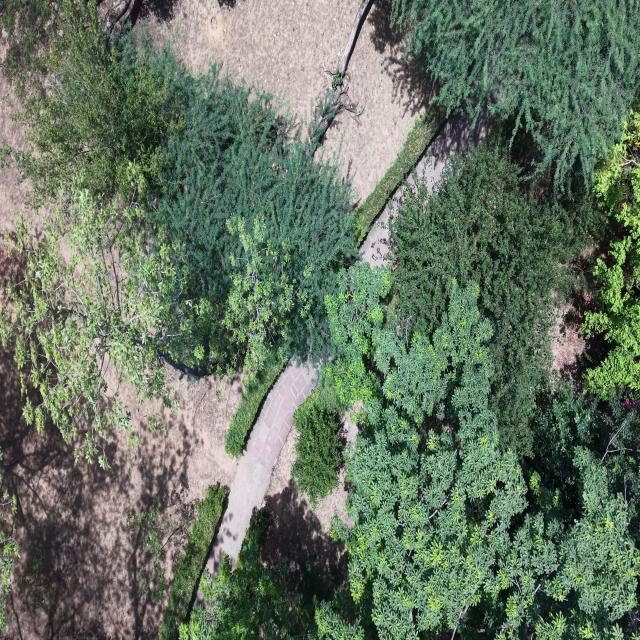DRY_AREA: (0, 347, 241, 639), (0, 350, 240, 639), (0, 350, 239, 638), (150, 0, 360, 120), (415, 111, 493, 188)
VEGETATION_TREE: (0, 0, 639, 639), (317, 123, 639, 639), (0, 0, 356, 466), (2, 0, 356, 465), (15, 7, 354, 370), (315, 265, 639, 639), (329, 266, 639, 639), (2, 3, 208, 465), (391, 137, 603, 454), (149, 66, 355, 370), (0, 184, 208, 467), (391, 0, 639, 186), (12, 0, 185, 205), (180, 502, 355, 639), (523, 382, 639, 548), (180, 510, 314, 639), (582, 110, 639, 397), (354, 107, 445, 245), (355, 107, 445, 244), (322, 264, 392, 422), (159, 485, 227, 639), (310, 0, 372, 141), (313, 0, 372, 140), (225, 350, 287, 458), (292, 387, 343, 504), (126, 496, 175, 603), (0, 0, 58, 87), (333, 0, 372, 84), (0, 486, 20, 629), (17, 554, 48, 610), (104, 0, 136, 35)
